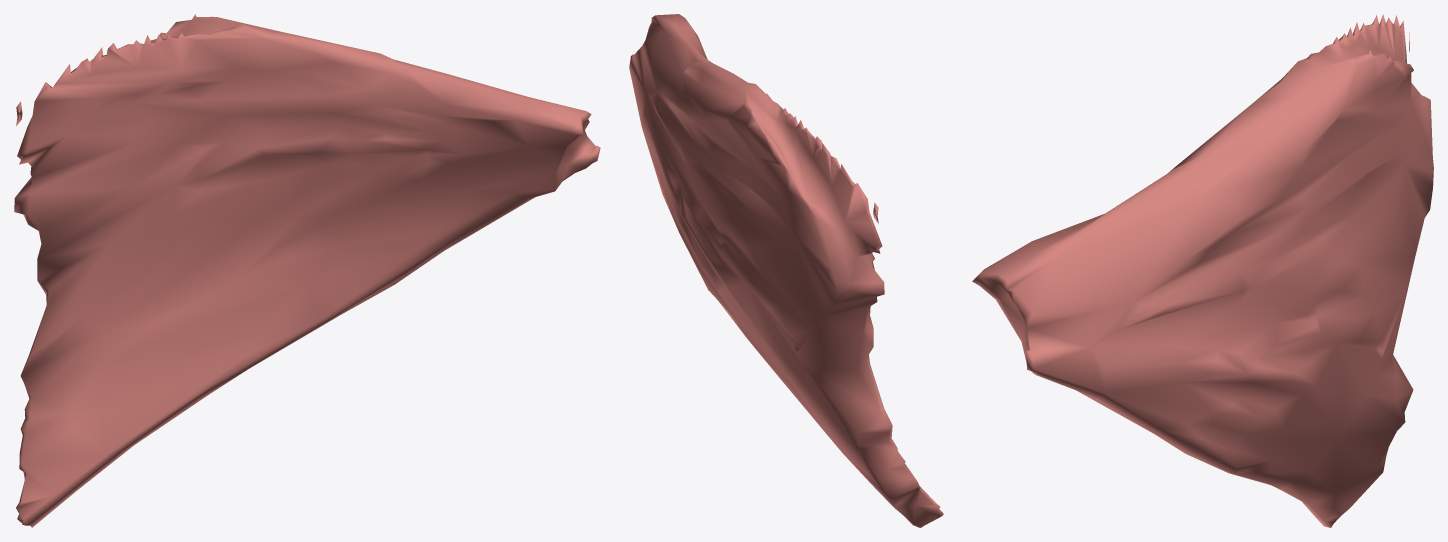
The picture shows the model from 3 angles, left to right: view 1: azimuth 30°, elevation 25°; view 2: azimuth 150°, elevation 25°; view 3: azimuth 270°, elevation 25°; orthographic projection. The views are drawn at different scales.
Parts seen in each view (by area): view 1: ZA_a34e7b708ce8e48c; view 2: ZA_a34e7b708ce8e48c; view 3: ZA_a34e7b708ce8e48c.
Boxes of the visible parts, x1,y1,x2,y2 form: ZA_a34e7b708ce8e48c: (14,14,600,527); ZA_a34e7b708ce8e48c: (629,14,943,527); ZA_a34e7b708ce8e48c: (972,14,1433,527).
Bounding box in the file's own units: 0.0443 × 0.041 × 0.0289.
